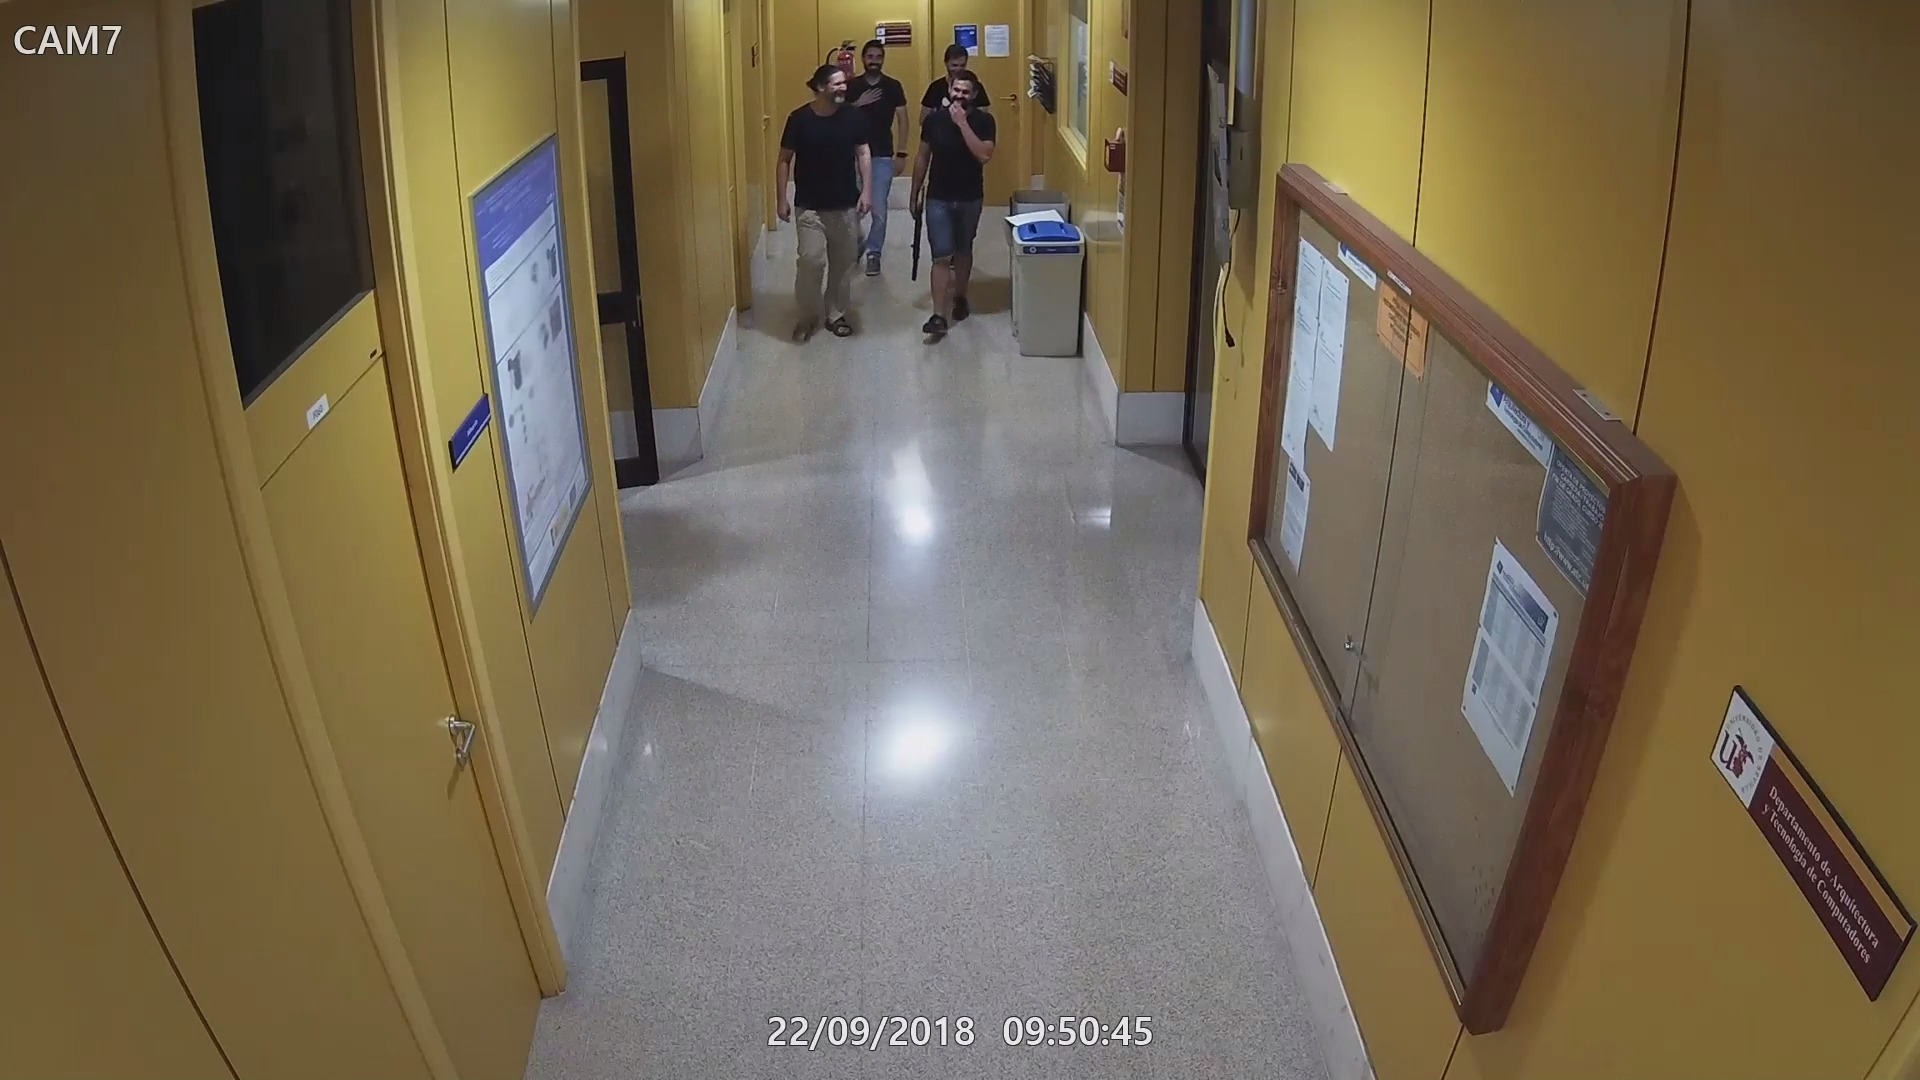Short_rifle: (909, 167, 931, 281)
